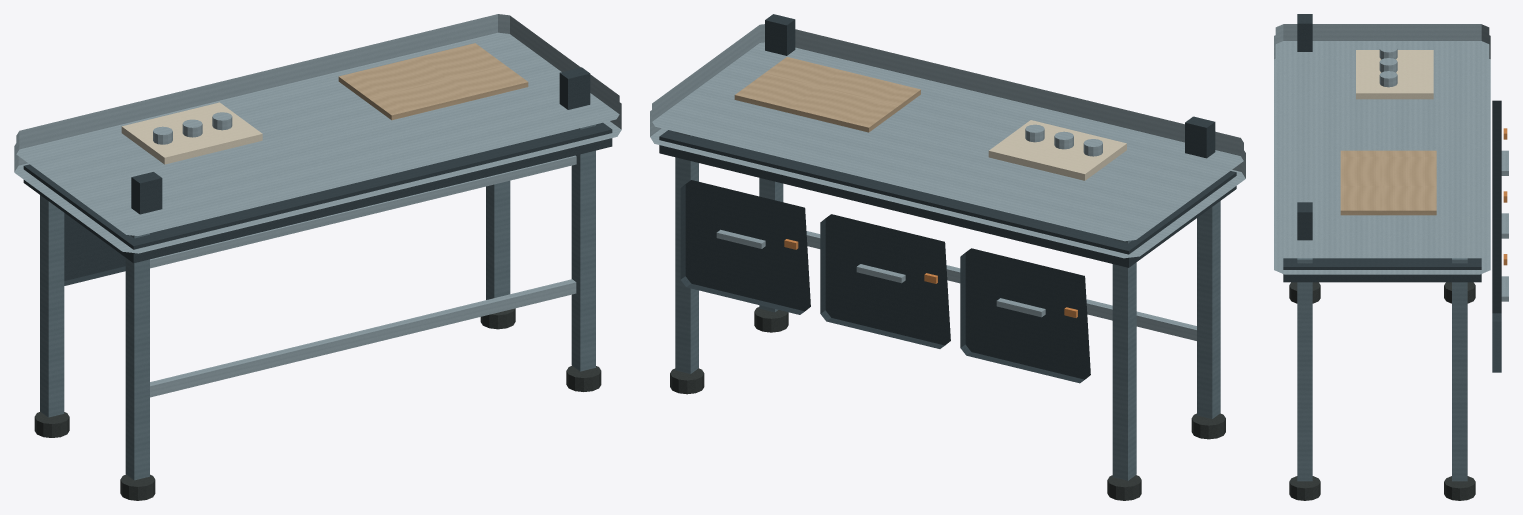
File: galley_counter.glb
3 views of the same model, side by side, from view 1: azimuth 30°, elevation 25°; view 2: azimuth 150°, elevation 25°; view 3: azimuth 270°, elevation 25° (orthographic). The views are drawn at different scales.
Parts seen in each view (by area): view 1: Food_Safe_Surface__alloy, static__trim, static__graphite, static__alloy, Food_Prep_Board__bamboo, work_surface__alloy, Secured_Tray__cream, feet__rubber, Drawer_Fronts__graphite, Wall_Stops__graphite, Utensil_Cups__alloy; view 2: Food_Safe_Surface__alloy, Drawer_Fronts__graphite, static__trim, static__graphite, Food_Prep_Board__bamboo, work_surface__alloy, Secured_Tray__cream, feet__rubber, Wall_Stops__graphite, static__alloy, Drawer_Handles__alloy, Utensil_Cups__alloy; view 3: Food_Safe_Surface__alloy, static__trim, Food_Prep_Board__bamboo, static__graphite, Secured_Tray__cream, Drawer_Fronts__graphite, work_surface__alloy, feet__rubber, Wall_Stops__graphite, Utensil_Cups__alloy, Drawer_Handles__alloy.
Part boxes in pixels (box(x1,y1,x2,y2)): Food_Safe_Surface__alloy: box(16, 14, 619, 235); static__trim: box(40, 124, 595, 480); static__graphite: box(23, 122, 612, 263); static__alloy: box(150, 155, 576, 397); Food_Prep_Board__bamboo: box(338, 43, 528, 120); work_surface__alloy: box(14, 102, 621, 253); Secured_Tray__cream: box(121, 102, 262, 164); feet__rubber: box(34, 308, 601, 500); Drawer_Fronts__graphite: box(64, 213, 125, 285); Wall_Stops__graphite: box(131, 67, 590, 214); Utensil_Cups__alloy: box(153, 112, 232, 144); Food_Safe_Surface__alloy: box(652, 24, 1243, 241); Drawer_Fronts__graphite: box(680, 180, 1090, 383); static__trim: box(675, 131, 1220, 480); static__graphite: box(659, 130, 1236, 267); Food_Prep_Board__bamboo: box(734, 57, 920, 132); work_surface__alloy: box(650, 110, 1245, 258); Secured_Tray__cream: box(988, 120, 1126, 180); feet__rubber: box(670, 307, 1225, 500); Wall_Stops__graphite: box(765, 14, 1215, 158); static__alloy: box(806, 231, 1196, 340); Drawer_Handles__alloy: box(716, 229, 1045, 317); Utensil_Cups__alloy: box(1025, 124, 1102, 156); Food_Safe_Surface__alloy: box(1275, 24, 1489, 258); static__trim: box(1297, 258, 1467, 481); Food_Prep_Board__bamboo: box(1340, 150, 1436, 215); static__graphite: box(1283, 258, 1481, 282); Secured_Tray__cream: box(1356, 50, 1433, 99); Drawer_Fronts__graphite: box(1492, 100, 1501, 372); work_surface__alloy: box(1274, 35, 1490, 274); feet__rubber: box(1289, 282, 1475, 500); Wall_Stops__graphite: box(1297, 14, 1312, 240); Utensil_Cups__alloy: box(1379, 45, 1397, 87); Drawer_Handles__alloy: box(1501, 150, 1508, 301).
Bounding box in the file's own units: 1.68 × 1.01 × 0.7585.
Materials: 7 (7 with a texture image).
